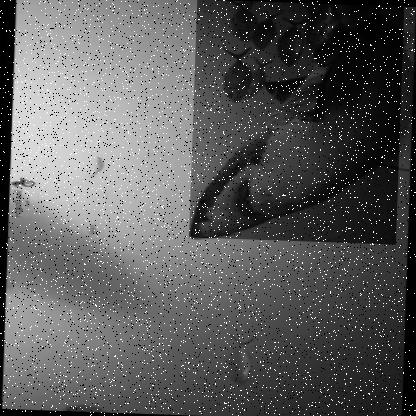white-shark: (188, 0, 405, 246)
